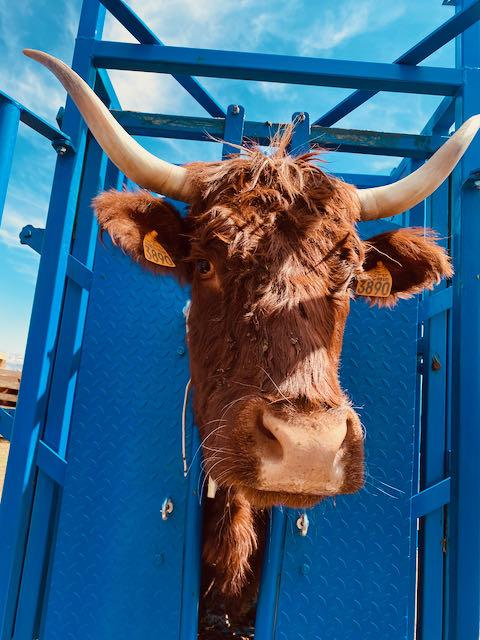muzzles: (209, 404, 370, 507)
